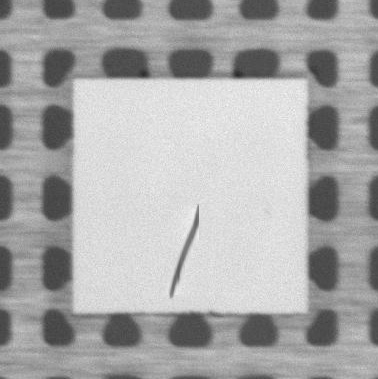DIE_INK: (160, 202, 205, 302)
